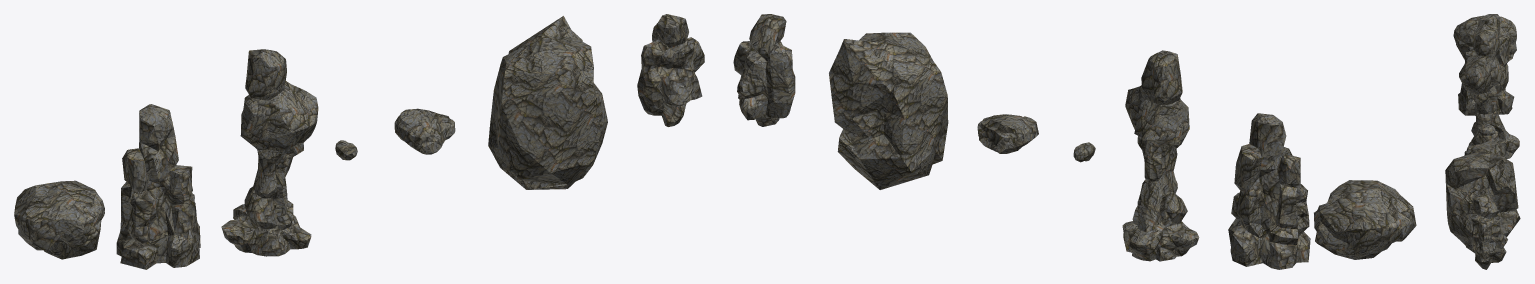
Rendered from greenery rocks.fbx.
The picture shows the model from 3 angles, left to right: view 1: azimuth 30°, elevation 25°; view 2: azimuth 150°, elevation 25°; view 3: azimuth 270°, elevation 25°; orthographic projection. The views are drawn at different scales.
Parts seen in each view (by area): view 1: model_0.005, model_1.005, model_1.004, model_0.006, model_1.003, model_0.007; view 2: model_0.005, model_1.005, model_1.004, model_0.006, model_1.003, model_0.007; view 3: model_0.005, model_1.005, model_1.003, model_1.004, model_0.006, model_0.007, model_0.004.
Boxes of the visible parts, x1,y1,x2,y2 form: model_0.005: (488,16,607,189); model_1.005: (221,49,318,256); model_1.004: (116,104,200,269); model_0.006: (14,180,104,259); model_1.003: (637,14,704,126); model_0.007: (394,108,455,154); model_0.005: (829,32,948,189); model_1.005: (1122,50,1199,261); model_1.004: (1228,113,1310,269); model_0.006: (1314,180,1416,259); model_1.003: (733,14,795,126); model_0.007: (977,114,1038,153); model_0.005: (1445,151,1520,245); model_1.005: (1459,24,1519,158); model_1.003: (1466,194,1507,269); model_1.004: (1458,14,1514,115); model_0.006: (1453,15,1516,60); model_0.007: (1464,140,1506,157); model_0.004: (1476,124,1495,135).
Size of the model in its own units: 18442 by 5131 by 2690.
